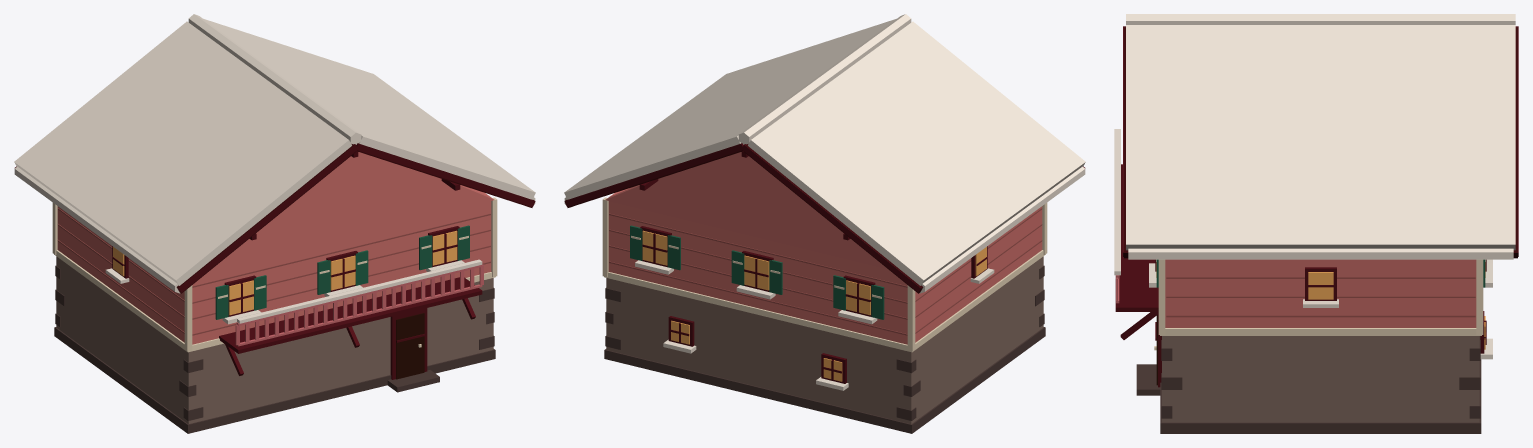
File: rs_chalet_wide.glb
3 views of the same model, side by side, from view 1: azimuth 30°, elevation 25°; view 2: azimuth 150°, elevation 25°; view 3: azimuth 270°, elevation 25° (orthographic). The views are drawn at different scales.
Visible parts, largest first — view 1: roof, body, balcony, door; view 2: roof, body; view 3: roof, body, balcony, door.
Boxes of the visible parts, box(x1,y1,x2,y2) form: roof: box(14, 14, 535, 293); body: box(52, 188, 497, 433); balcony: box(219, 259, 483, 375); door: box(387, 308, 439, 392); roof: box(564, 14, 1085, 293); body: box(602, 188, 1047, 433); roof: box(1123, 14, 1518, 259); body: box(1149, 259, 1492, 433); balcony: box(1114, 129, 1158, 339); door: box(1136, 314, 1161, 395).
Bounding box in the file's own units: 11.81 × 8.59 × 9.55.
